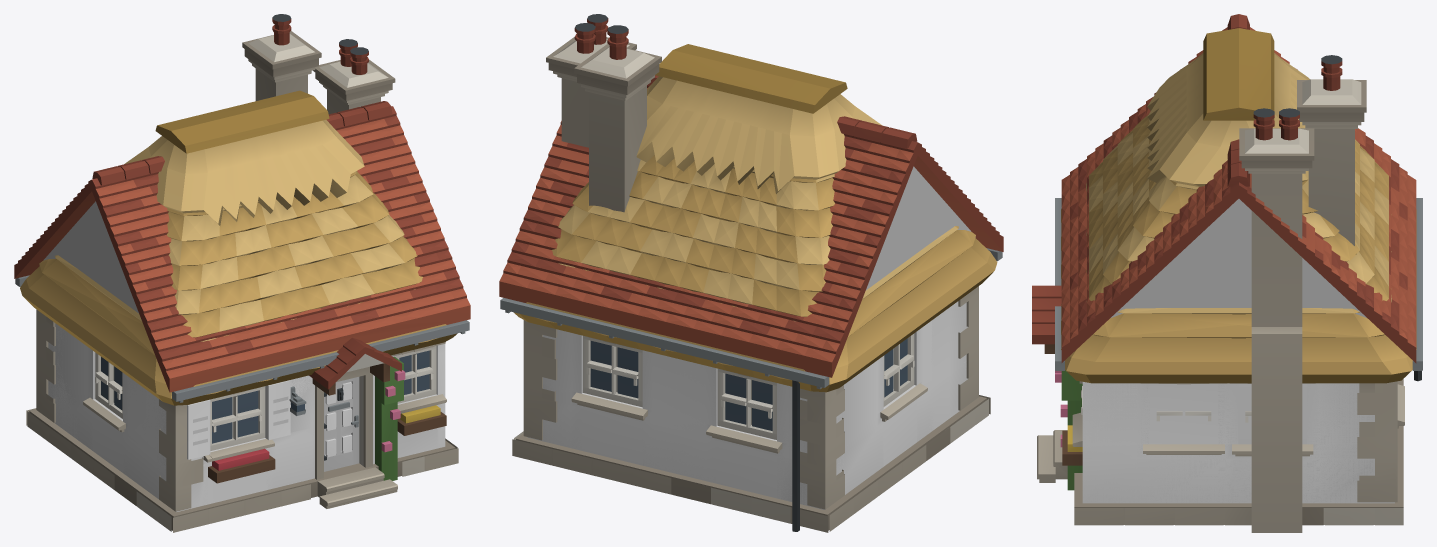
File: cottage-near.glb
The picture shows the model from 3 angles, left to right: view 1: azimuth 30°, elevation 25°; view 2: azimuth 150°, elevation 25°; view 3: azimuth 270°, elevation 25°; orthographic projection. The views are drawn at different scales.
Parts seen in each view (by area): view 1: CottageThatchNear, CottageTileNear; view 2: CottageThatchNear, CottageTileNear; view 3: CottageThatchNear, CottageTileNear.
Boxes of the visible parts, box(x1,y1,x2,y2) form: CottageThatchNear: box(20, 14, 457, 530); CottageTileNear: box(14, 39, 470, 532); CottageThatchNear: box(514, 25, 997, 530); CottageTileNear: box(499, 14, 1003, 532); CottageThatchNear: box(1037, 28, 1416, 524); CottageTileNear: box(1032, 14, 1422, 532).
Size of the model in its own units: 0.968 by 1.13 by 0.926.
